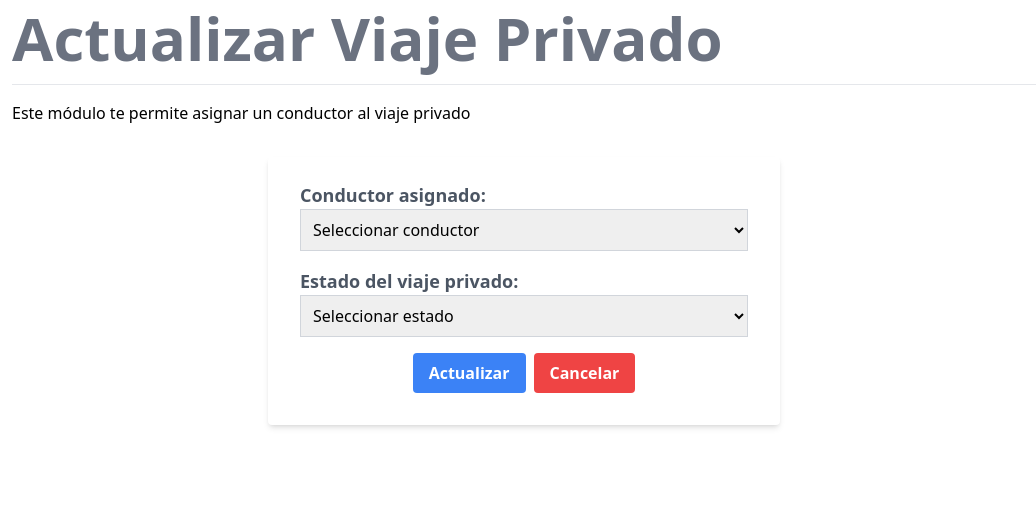
ActualizarViajePrivado › Actualización exitosa del viaje privado
The width and height of the screenshot is (1036, 526).
Select "1" in the dropdown labelled "Conductor asignado:": (524, 230) [300,209,748,251]
Select "Aprobado" in the dropdown labelled "Estado del viaje privado:": (524, 316) [300,295,748,337]
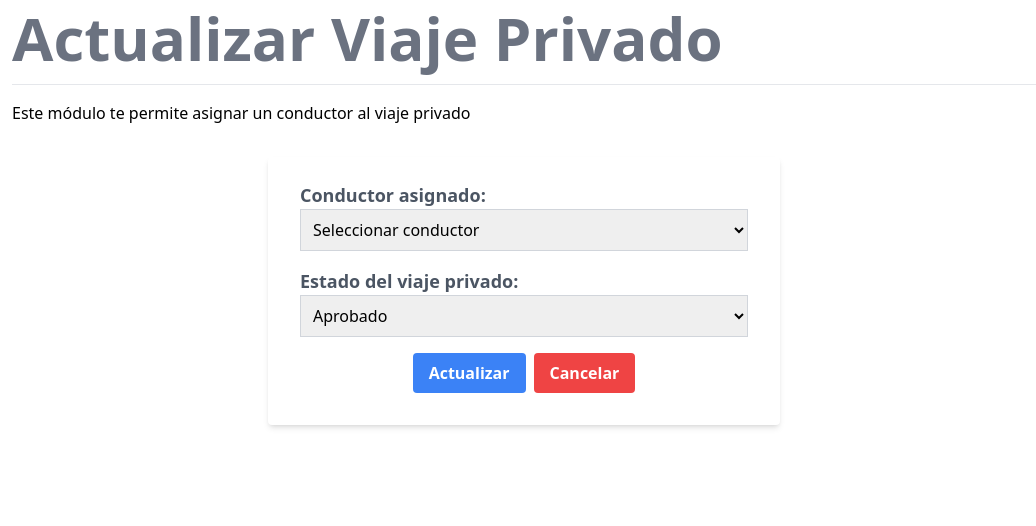
Click the button "Actualizar": (469, 373) [413,353,526,393]
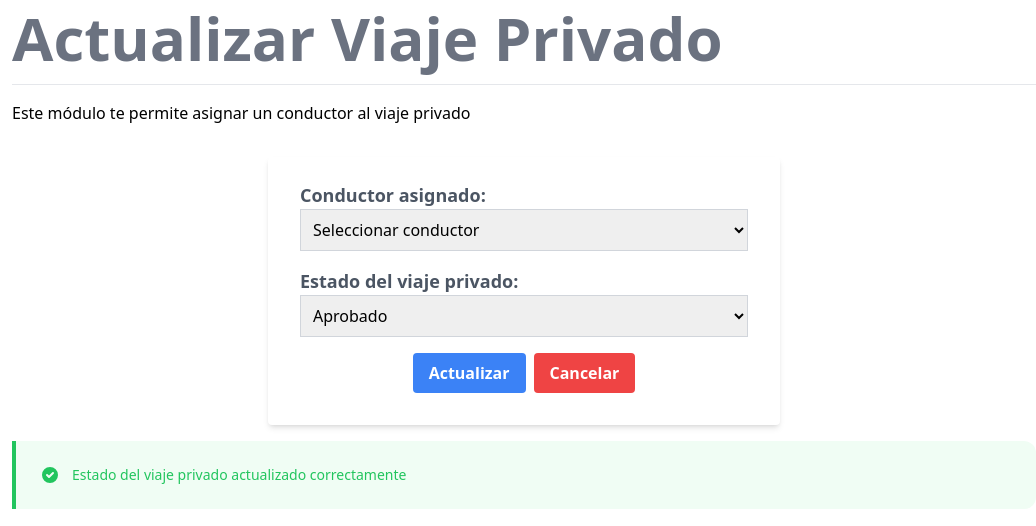
Result: the text "Estado del viaje privado actualizado correctamente" is shown at [72,465,406,485]
